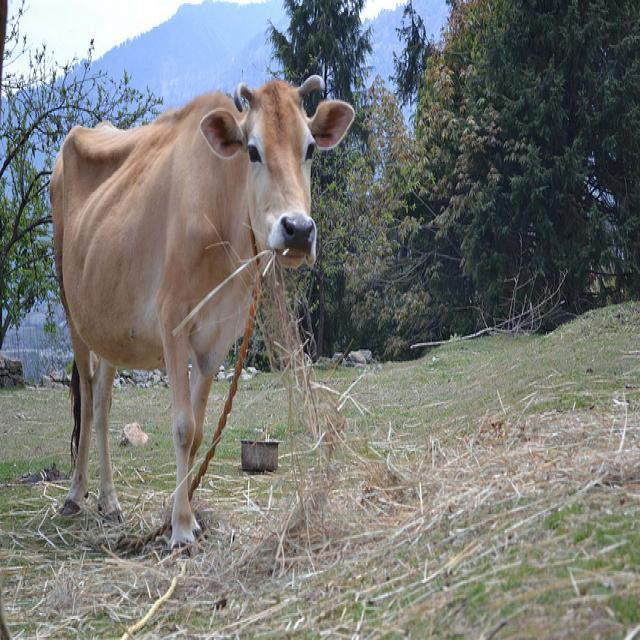cow: (44, 72, 355, 552)
